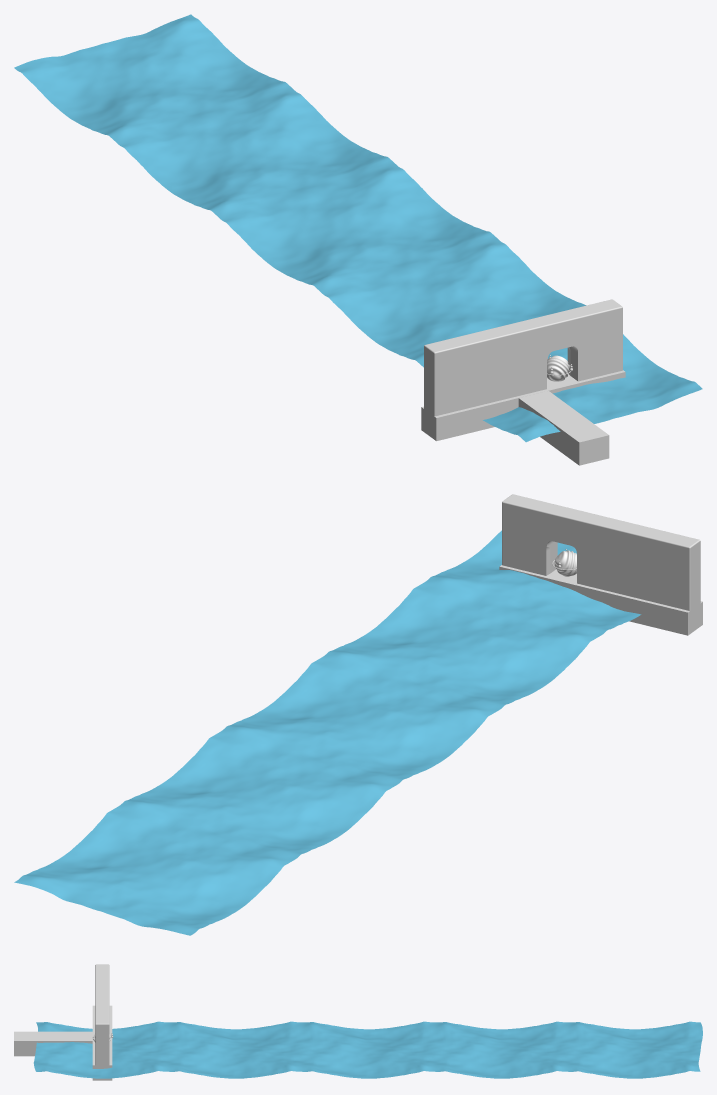
The picture shows the model from 3 angles, top to bottom: view 1: azimuth 30°, elevation 25°; view 2: azimuth 150°, elevation 25°; view 3: azimuth 270°, elevation 25°; orthographic projection. The views are drawn at different scales.
Parts seen in each view (by area): view 1: agua, parede, ponte, chao; view 2: agua, parede, chao; view 3: agua, parede, ponte, chao.
Boxes of the visible parts, x1,y1,x2,y2 form: agua: [14, 14, 702, 442]; parede: [424, 299, 622, 416]; ponte: [518, 391, 609, 465]; chao: [421, 370, 625, 441]; agua: [14, 530, 641, 935]; parede: [502, 494, 700, 612]; chao: [499, 565, 702, 635]; agua: [33, 1021, 702, 1078]; parede: [95, 964, 109, 1067]; ponte: [14, 1031, 92, 1056]; chao: [92, 1005, 112, 1080].
Bounding box in the file's own units: 20.17 × 7.5 × 82.92.
